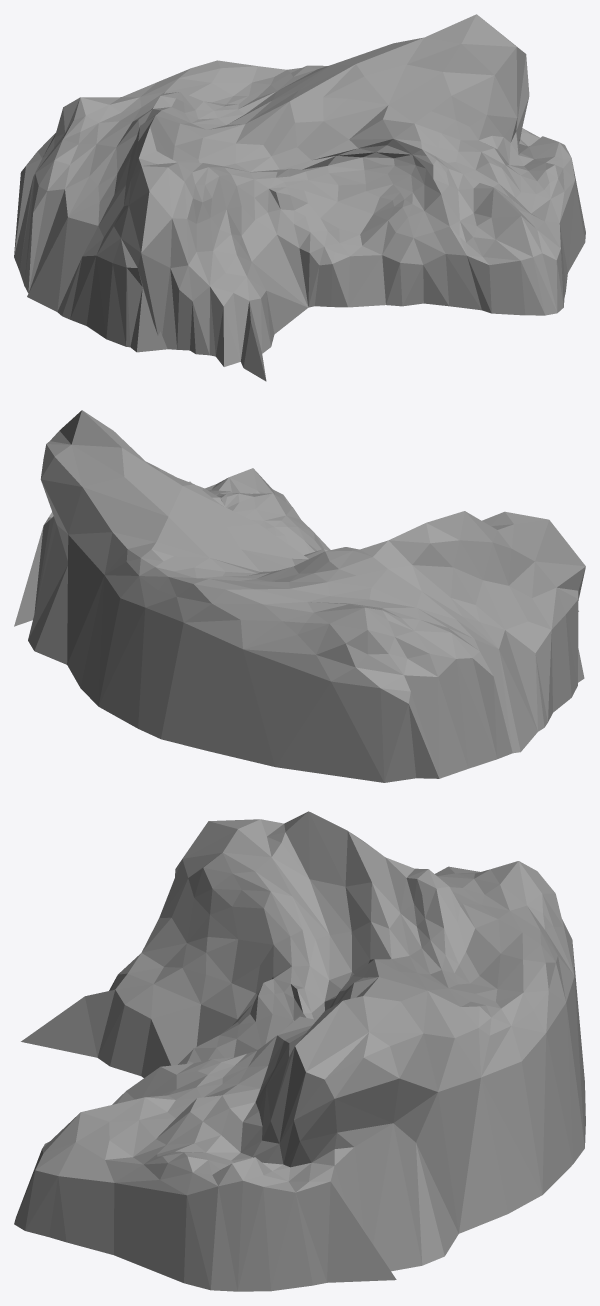
The model's file is mountains_003.glb.
3 views of the same model, one above another, from view 1: azimuth 30°, elevation 25°; view 2: azimuth 150°, elevation 25°; view 3: azimuth 270°, elevation 25° (orthographic). The views are drawn at different scales.
Visible parts, largest first — view 1: mountains_003; view 2: mountains_003; view 3: mountains_003.
Part boxes in pixels (x1,y1,x2,y2): mountains_003: (14, 14, 585, 381); mountains_003: (14, 410, 585, 782); mountains_003: (14, 811, 585, 1291).
Bounding box in the file's own units: 75.85 × 28.98 × 59.41.
Materials: 1 (1 with a texture image).
